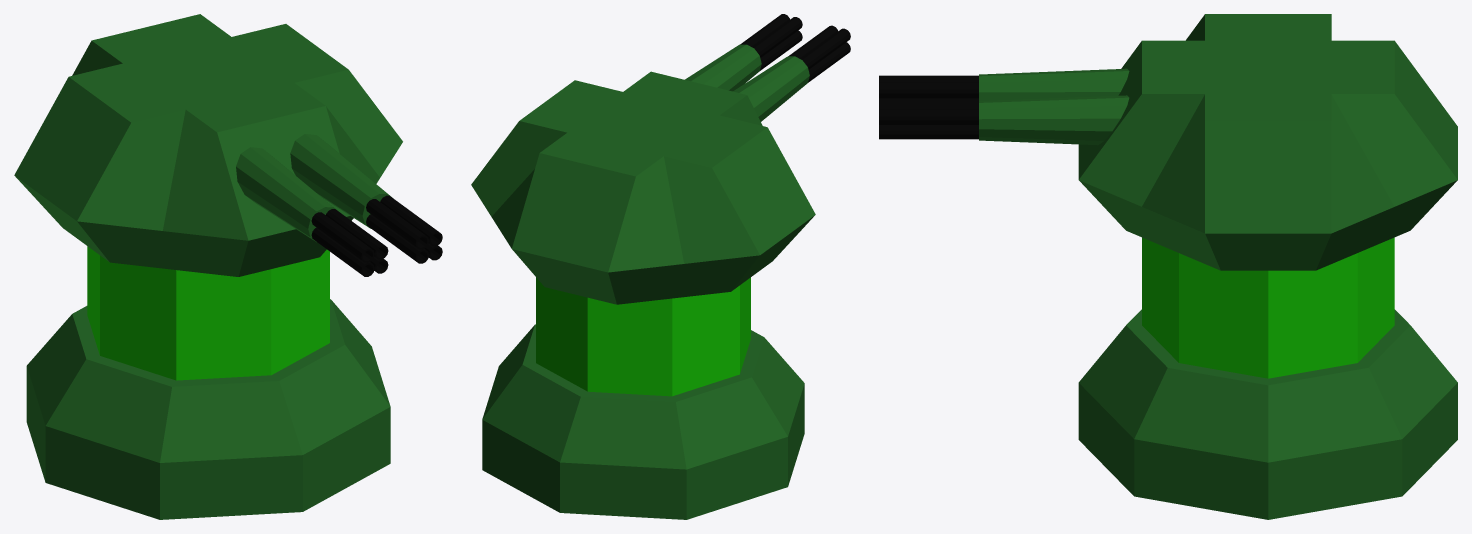
Rendered from Turret1_2.glb.
The picture shows the model from 3 angles, left to right: view 1: azimuth 30°, elevation 25°; view 2: azimuth 150°, elevation 25°; view 3: azimuth 270°, elevation 25°; orthographic projection. The views are drawn at different scales.
Visible parts, largest first — view 1: TurretUpgradePath1_2; view 2: TurretUpgradePath1_2; view 3: TurretUpgradePath1_2.
Boxes of the visible parts, left/top/right/bottom form: TurretUpgradePath1_2: left=14, top=14, right=442, bottom=519; TurretUpgradePath1_2: left=471, top=14, right=850, bottom=519; TurretUpgradePath1_2: left=879, top=14, right=1457, bottom=519.
Size of the model in its own units: 3 by 3.25 by 4.58.
